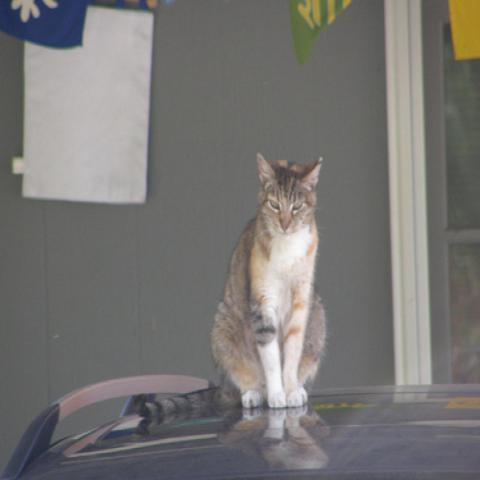car: (4, 371, 480, 474)
